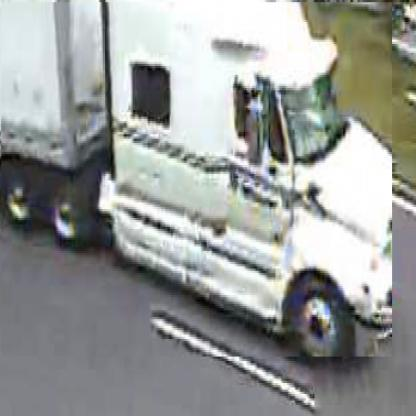container: (2, 3, 394, 360)
